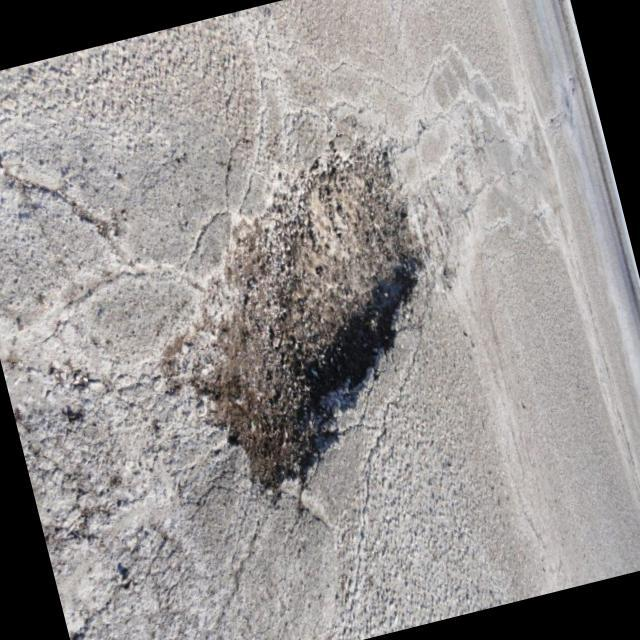Pothole: (104, 113, 554, 542)
